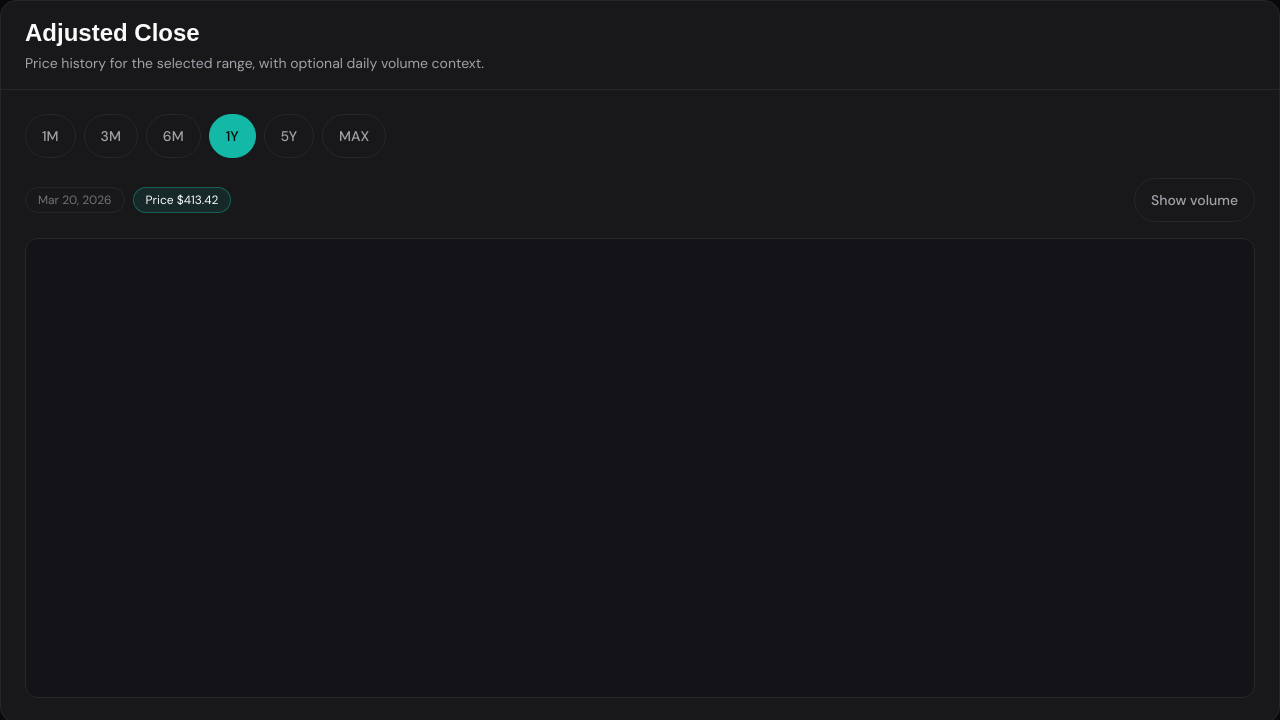
PriceTab › reveals a clear volume summary only when the user enables it
The width and height of the screenshot is (1280, 720).
What coordinates should you click on to do the following:
click the button "Show volume"
I would click on:
 (1194, 200)
Its box is [1134, 178, 1255, 222].
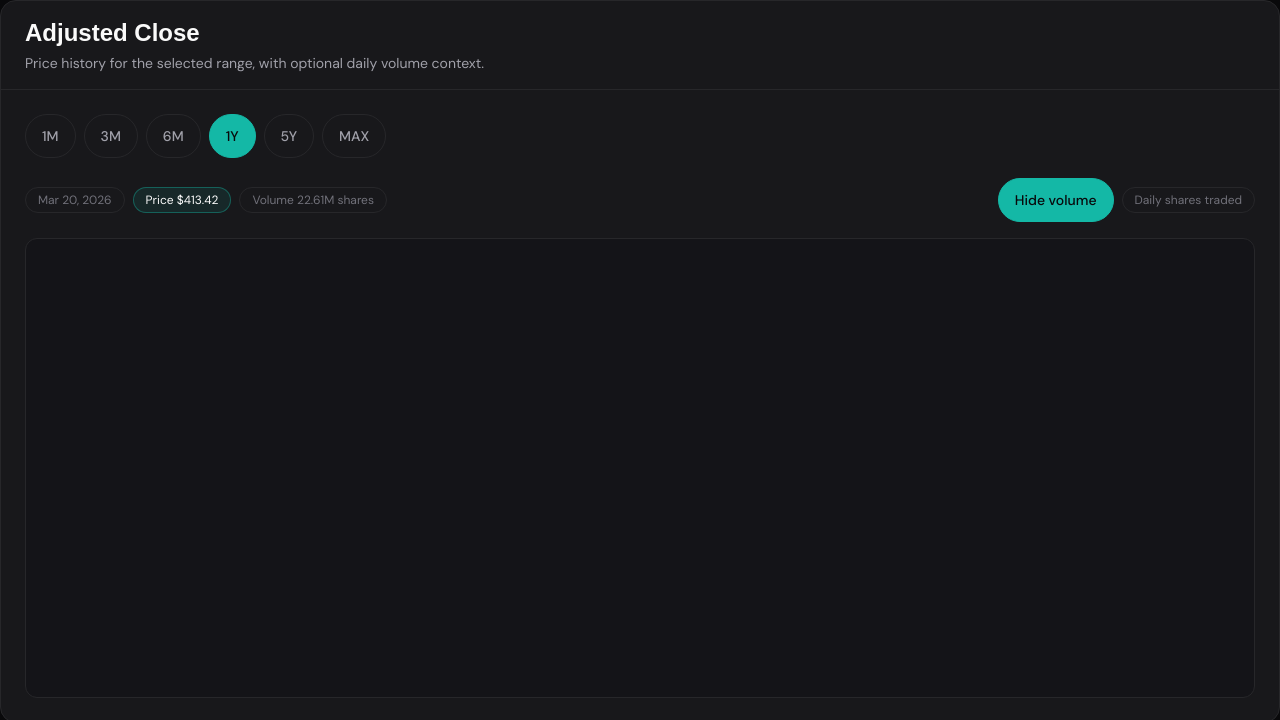
Check: the text "Daily shares traded" is shown, box [1122, 187, 1255, 213]
Check: the text "Volume 22.61M shares" is shown, box [239, 187, 387, 213]
